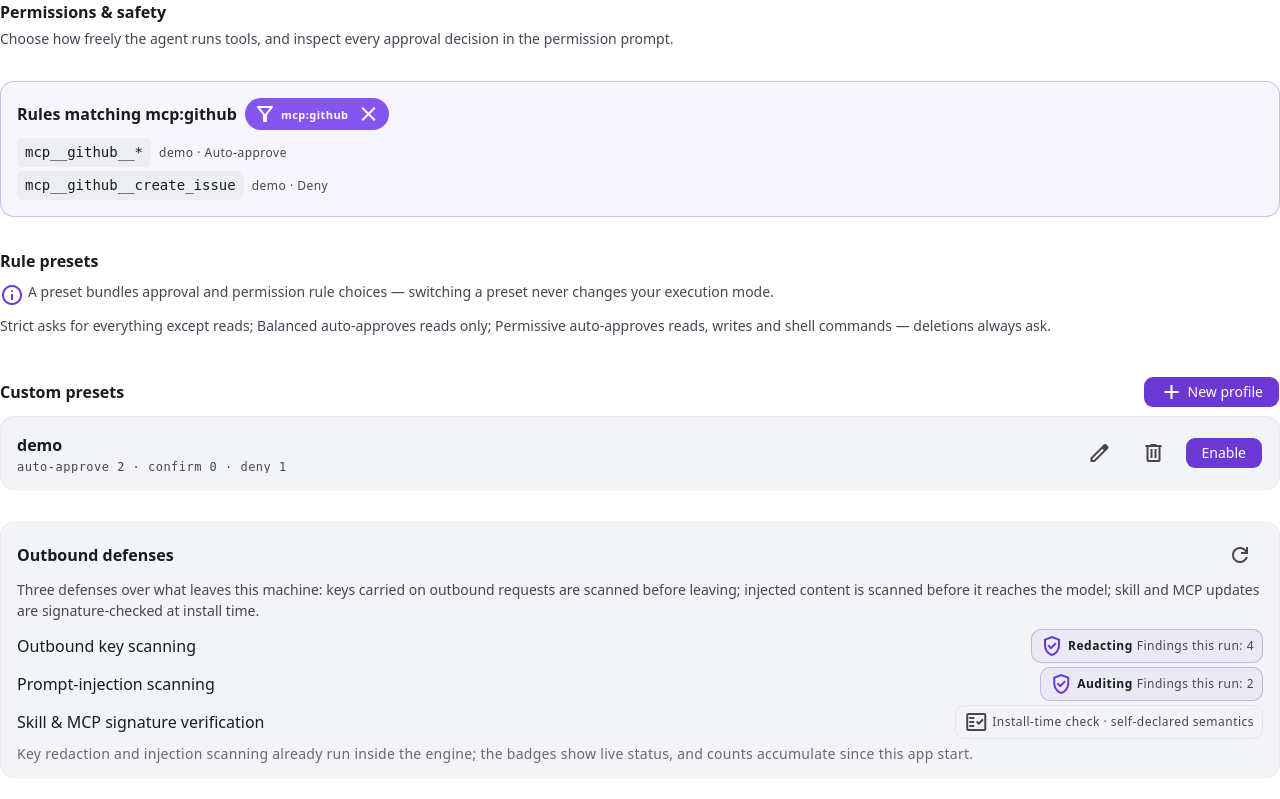
Scenario: X3 scope filter — deep link panel › filters rules by the ?scope= server prefix and shows a clearable chip
The image size is (1280, 799).
Expected: the heading "Rules matching mcp:github" is shown, [17, 102, 237, 126]
Expected: the text "mcp__github__*" is shown, [17, 138, 151, 167]
Click the button named "Clear panel filter" at (368, 114), box [356, 102, 380, 126]
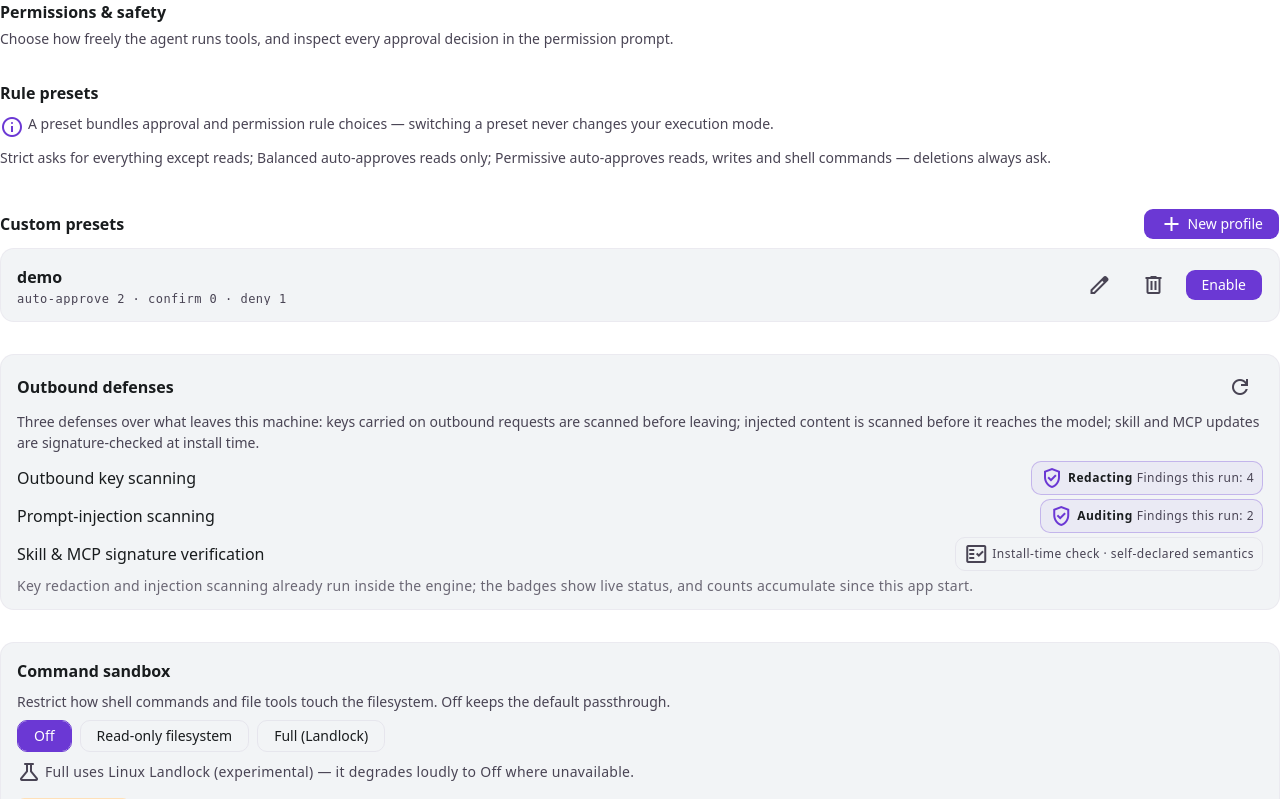
Result: the element with test id "permissions-scope-panel" is gone
